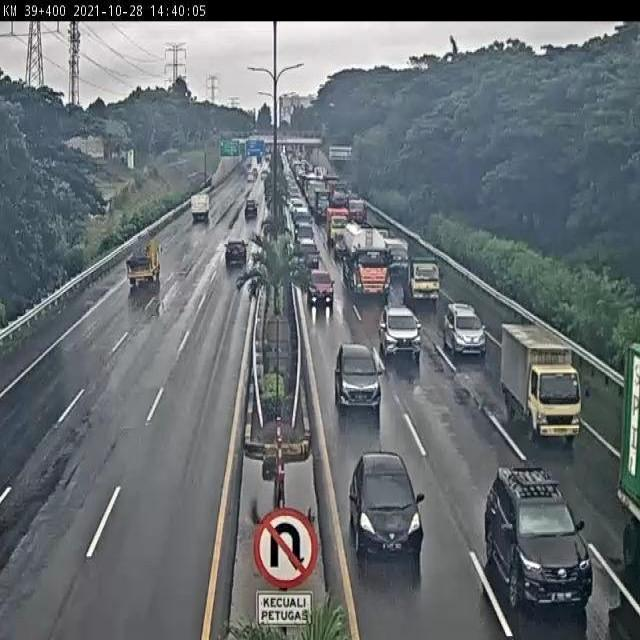car: (486, 464, 593, 608), (350, 451, 423, 557), (335, 344, 383, 411), (380, 304, 423, 360), (442, 302, 485, 354), (306, 265, 332, 303), (224, 237, 250, 263)
mid truck: (243, 202, 260, 222)
small truck: (128, 240, 166, 287)
truck-m-: (403, 256, 439, 303)
truck-s-: (500, 318, 582, 442), (382, 233, 407, 275)
truck-xl-: (342, 220, 388, 295)
